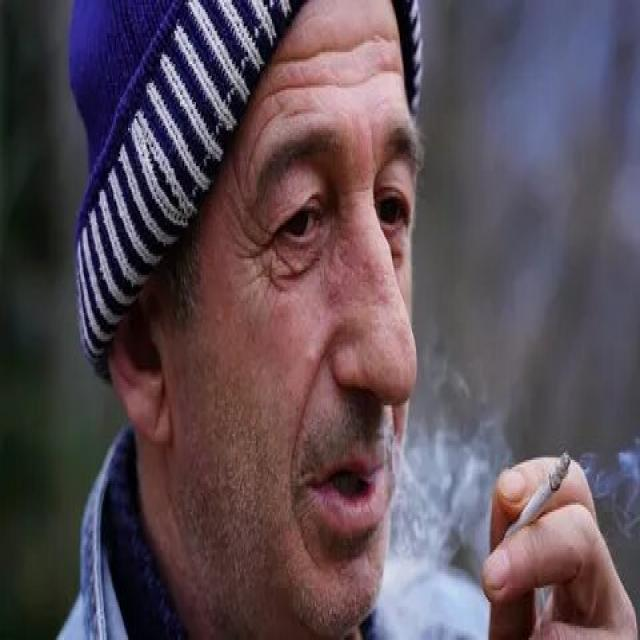smoke: (503, 450, 576, 552)
